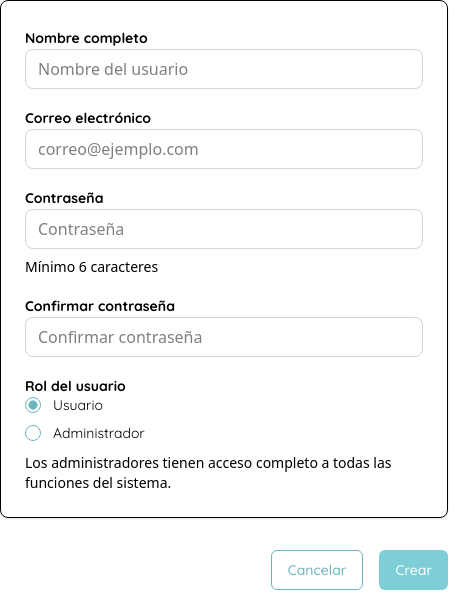
Test: UsuarioForm › Interacciones generales › debe permitir cambiar el rol del usuario
Check: the 1st radio button named "Usuario" is checked, box [25,397,41,413]
Click the 2nd radio button named "Administrador": (33, 433) [25,425,41,441]
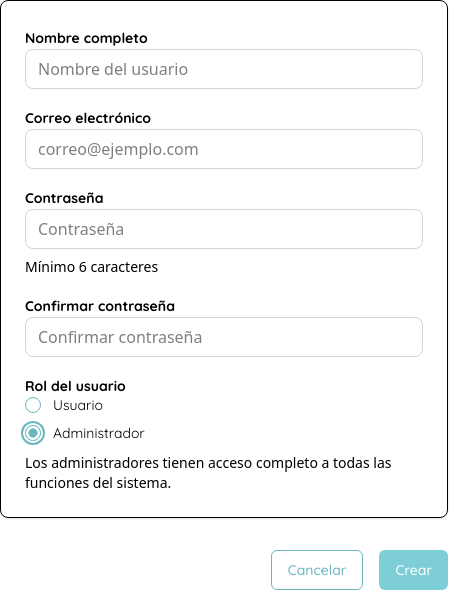
Check: the 2nd radio button named "Administrador" is checked, box [25,425,41,441]
Check: the 1st radio button named "Usuario" is not checked, box [25,397,41,413]
